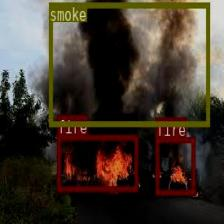fire: (56, 134, 138, 190), (155, 137, 194, 194)
smoke: (48, 2, 209, 126)
